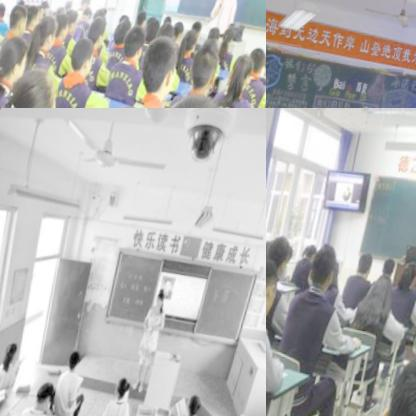head: (132, 33, 187, 101), (368, 340, 416, 416), (0, 65, 69, 108), (306, 241, 343, 292), (189, 48, 226, 97), (0, 35, 33, 88), (68, 37, 101, 81), (367, 268, 398, 313), (31, 13, 63, 56), (121, 21, 153, 63), (266, 230, 292, 280), (266, 254, 284, 321), (229, 53, 258, 91), (289, 255, 316, 292), (35, 379, 63, 413), (85, 16, 110, 53), (6, 3, 32, 38), (50, 9, 73, 45), (354, 249, 378, 279), (247, 45, 266, 78), (397, 260, 416, 293), (112, 20, 134, 48), (143, 14, 162, 46), (67, 345, 87, 373), (379, 255, 399, 283), (187, 390, 208, 416), (62, 6, 81, 34), (116, 376, 136, 402), (158, 22, 177, 49), (182, 29, 200, 57), (5, 336, 23, 364), (153, 289, 170, 317), (207, 26, 226, 51), (24, 4, 42, 30), (92, 2, 109, 29), (301, 239, 320, 263), (133, 8, 150, 33), (221, 25, 237, 51), (190, 23, 206, 42), (173, 21, 186, 42), (82, 4, 95, 21), (161, 14, 175, 28), (0, 0, 9, 21), (79, 0, 94, 12), (41, 1, 52, 16)
